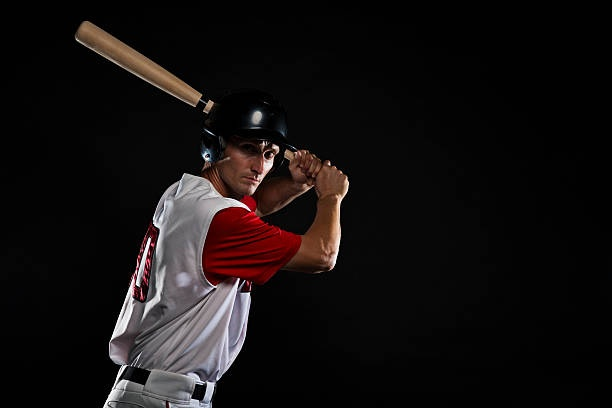bita: (77, 20, 210, 109)
